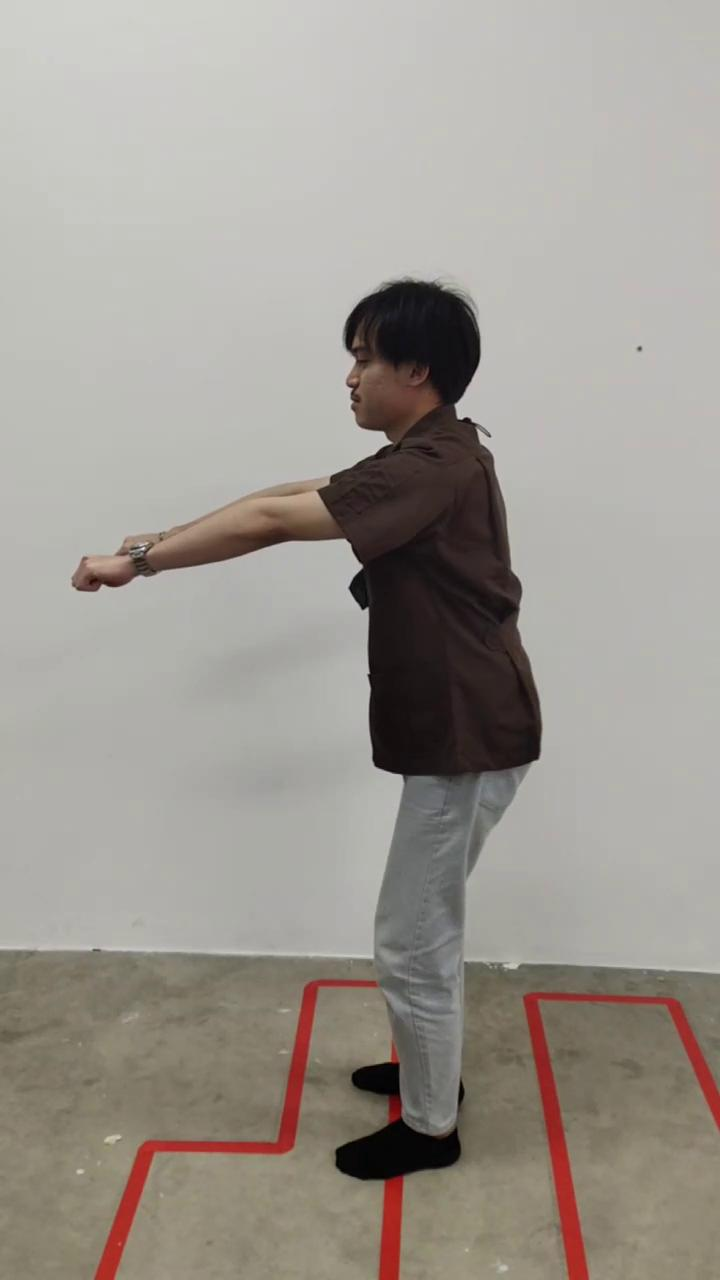squat up: (72, 280, 540, 1179)
